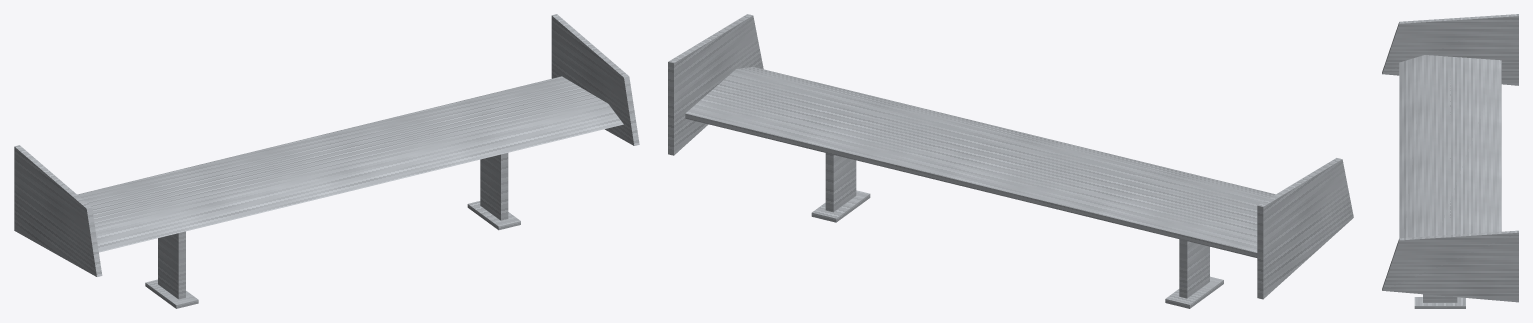
File: aerofolio_n3.glb
3 renders of one model, left to right at view 1: azimuth 30°, elevation 25°; view 2: azimuth 150°, elevation 25°; view 3: azimuth 270°, elevation 25°, orthographic. The views are drawn at different scales.
Visible parts, largest first — view 1: aerofolio_n3; view 2: aerofolio_n3; view 3: aerofolio_n3.
Boxes of the visible parts, x1=… form: aerofolio_n3: x1=14, y1=14, x2=639, y2=308; aerofolio_n3: x1=668, y1=14, x2=1353, y2=308; aerofolio_n3: x1=1382, y1=14, x2=1518, y2=308.
Size of the model in its own units: 1.21 by 0.3 by 0.32.
2 materials, 2 textured.
